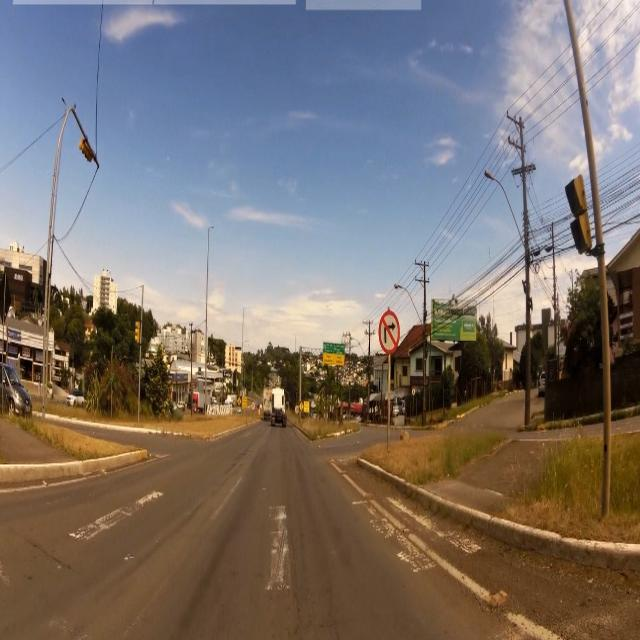R-4b: (379, 307, 398, 356)
